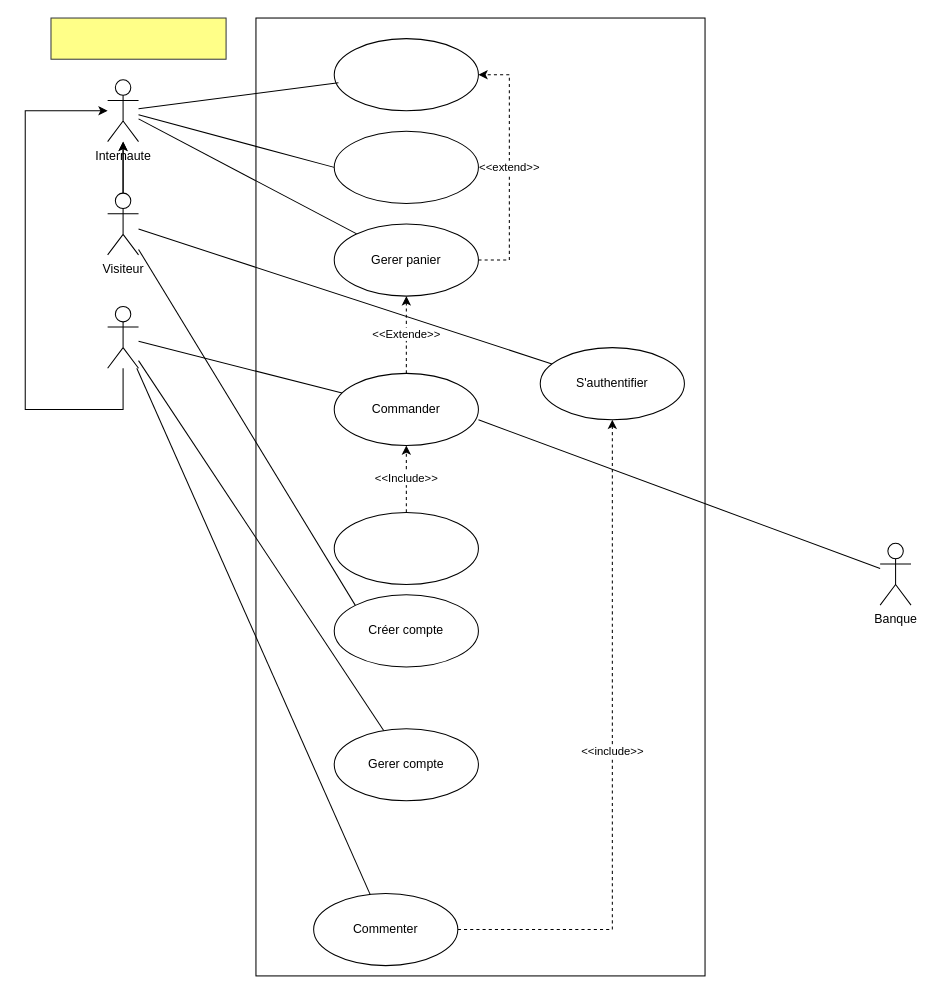
Some shapes in this 934 by 994 pixel diagram are drawn without their labels. The shapes that lost their labels are listed below. From the top down, each one's box as (x1, y1, x2, y2) in pixels, then its label:
(50, 17, 226, 59): www.jebouquine.com
(333, 38, 478, 111): Rechercher ouvrage
(333, 130, 478, 203): Consulter détails
(107, 305, 139, 368): Client
(333, 511, 478, 585): Payer
